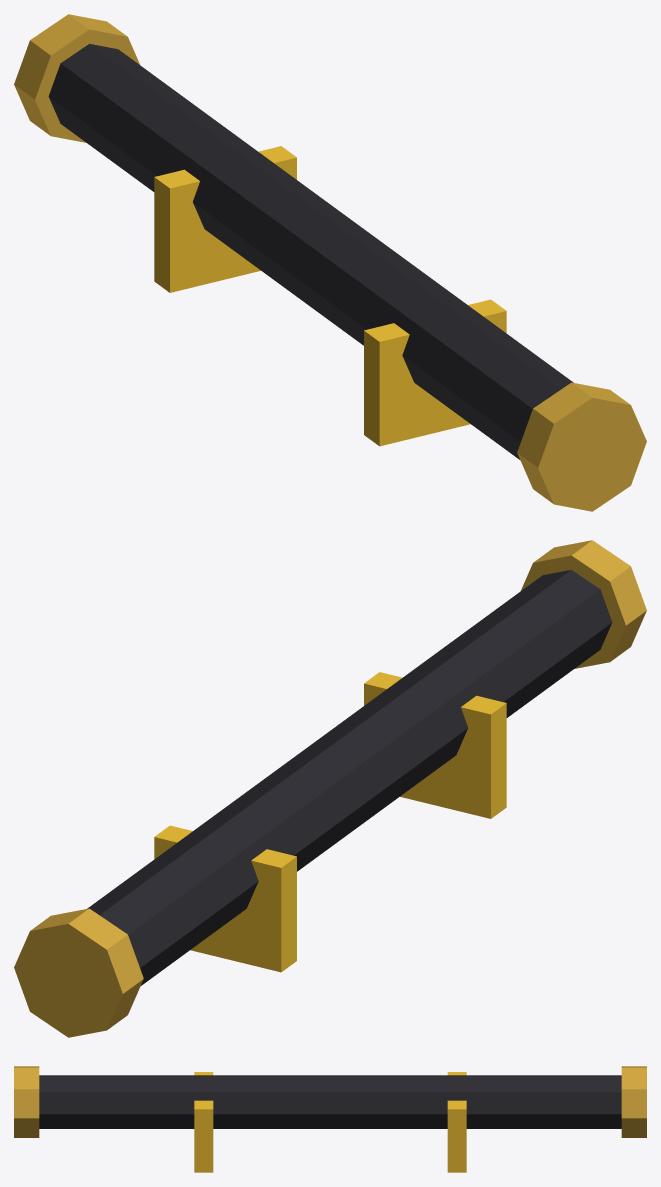
Rendered from cable-straight.glb.
The picture shows the model from 3 angles, top to bottom: view 1: azimuth 30°, elevation 25°; view 2: azimuth 150°, elevation 25°; view 3: azimuth 270°, elevation 25°; orthographic projection. The views are drawn at different scales.
Parts seen in each view (by area): view 1: cable-straight; view 2: cable-straight; view 3: cable-straight.
Boxes of the visible parts, <box> form: cable-straight: <box>14,14,646,511</box>; cable-straight: <box>14,540,646,1037</box>; cable-straight: <box>14,1066,646,1172</box>.
Bounding box in the file's own units: 0.14 × 0.15 × 1.
Materials: 1 (1 with a texture image).
